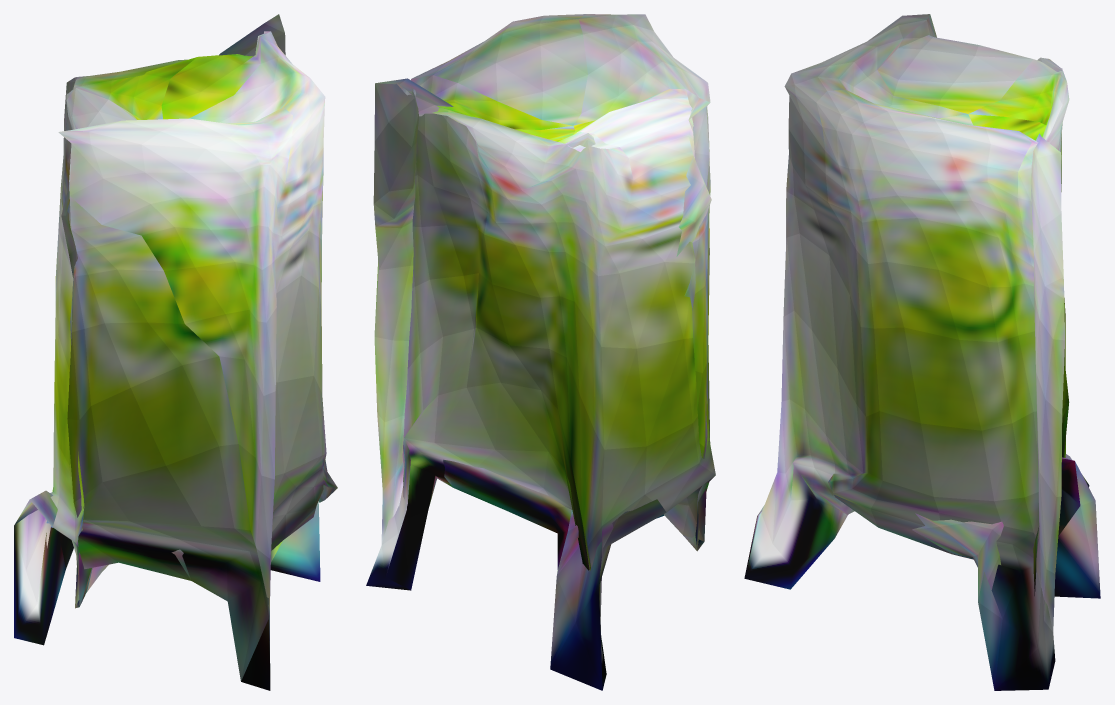
3 renders of one model, left to right at view 1: azimuth 30°, elevation 25°; view 2: azimuth 150°, elevation 25°; view 3: azimuth 270°, elevation 25°, orthographic. The views are drawn at different scales.
Visible parts, largest first — view 1: pMesh1; view 2: pMesh1; view 3: pMesh1.
Boxes of the visible parts, left/top/right/bottom form: pMesh1: left=14, top=14, right=337, bottom=690; pMesh1: left=366, top=14, right=715, bottom=690; pMesh1: left=744, top=14, right=1100, bottom=690.
Bounding box in the file's own units: 1.49 × 2.75 × 1.54.
Materials: 1 (1 with a texture image).
